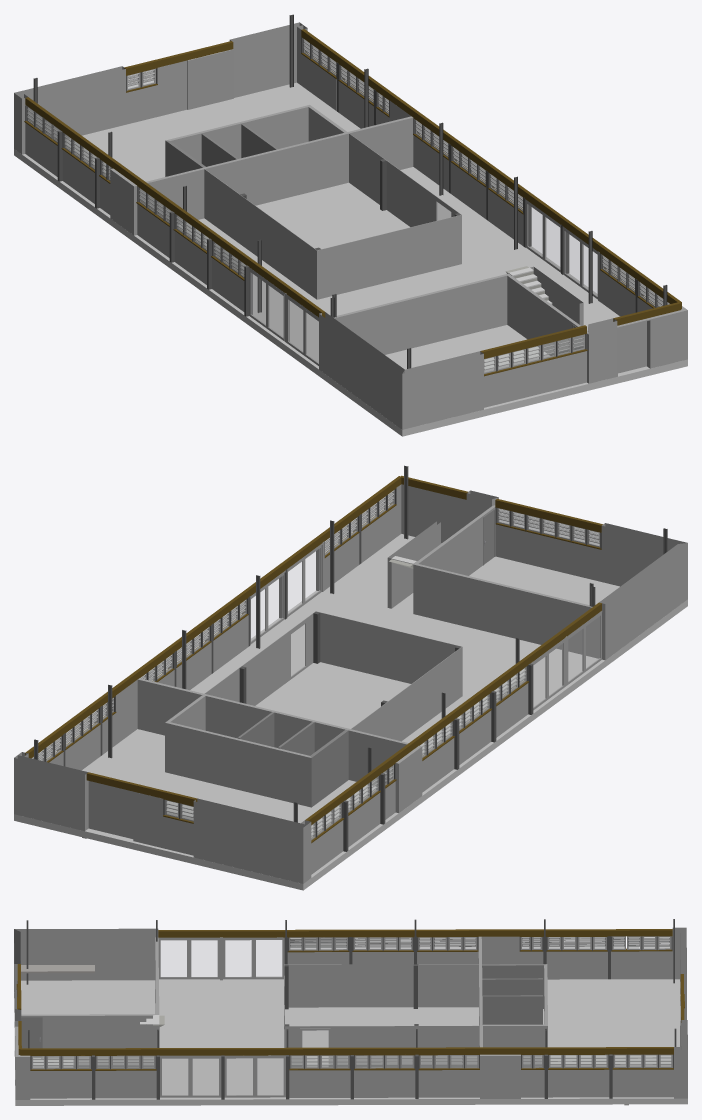
The model's file is floor0.glb.
The picture shows the model from 3 angles, top to bottom: view 1: azimuth 30°, elevation 25°; view 2: azimuth 150°, elevation 25°; view 3: azimuth 270°, elevation 25°; orthographic projection. The views are drawn at different scales.
Parts seen in each view (by area): view 1: IfcWallStandardCase/Parede-058.008, IfcSlab/L23.008, IfcBuildingElementProxy/Viga-009, IfcColumn/P07.004, IfcBuildingElementProxy/J17.003, IfcBuildingElementProxy/P17.008, IfcBuildingElementProxy/P19, IfcBuildingElementProxy/Parede-034.003; view 2: IfcWallStandardCase/Parede-058.008, IfcSlab/L23.008, IfcBuildingElementProxy/Viga-009, IfcColumn/P07.004, IfcBuildingElementProxy/P17.008, IfcBuildingElementProxy/J17.003, IfcBuildingElementProxy/P19, IfcBuildingElementProxy/Parede-034.003; view 3: IfcWallStandardCase/Parede-058.008, IfcSlab/L23.008, IfcBuildingElementProxy/Viga-009, IfcBuildingElementProxy/P17.008, IfcBuildingElementProxy/J17.003, IfcColumn/P07.004, IfcBuildingElementProxy/Parede-034.003, IfcBuildingElementProxy/P30.004, IfcBuildingElementProxy/Laje-004.
Part boxes in pixels (bbox=[...]): IfcWallStandardCase/Parede-058.008: bbox=[14, 22, 687, 429]; IfcSlab/L23.008: bbox=[14, 82, 687, 436]; IfcBuildingElementProxy/Viga-009: bbox=[24, 29, 681, 376]; IfcColumn/P07.004: bbox=[25, 14, 667, 371]; IfcBuildingElementProxy/J17.003: bbox=[27, 38, 669, 373]; IfcBuildingElementProxy/P17.008: bbox=[249, 198, 597, 365]; IfcBuildingElementProxy/P19: bbox=[187, 49, 650, 376]; IfcBuildingElementProxy/Parede-034.003: bbox=[165, 124, 277, 176]; IfcWallStandardCase/Parede-058.008: bbox=[14, 484, 687, 883]; IfcSlab/L23.008: bbox=[14, 534, 687, 890]; IfcBuildingElementProxy/Viga-009: bbox=[25, 475, 602, 843]; IfcColumn/P07.004: bbox=[34, 465, 667, 851]; IfcBuildingElementProxy/P17.008: bbox=[250, 546, 601, 710]; IfcBuildingElementProxy/J17.003: bbox=[32, 490, 600, 840]; IfcBuildingElementProxy/P19: bbox=[88, 491, 466, 838]; IfcBuildingElementProxy/Parede-034.003: bbox=[237, 712, 348, 806]; IfcWallStandardCase/Parede-058.008: bbox=[14, 927, 687, 1105]; IfcSlab/L23.008: bbox=[14, 979, 687, 1105]; IfcBuildingElementProxy/Viga-009: bbox=[16, 929, 684, 1070]; IfcBuildingElementProxy/P17.008: bbox=[158, 939, 330, 1097]; IfcBuildingElementProxy/J17.003: bbox=[31, 936, 672, 1069]; IfcColumn/P07.004: bbox=[17, 919, 676, 1099]; IfcBuildingElementProxy/Parede-034.003: bbox=[482, 964, 546, 1024]; IfcBuildingElementProxy/P30.004: bbox=[21, 1017, 42, 1058]; IfcBuildingElementProxy/Laje-004: bbox=[21, 965, 94, 973].
Size of the model in its own units: 13.55 by 3.62 by 31.27.
